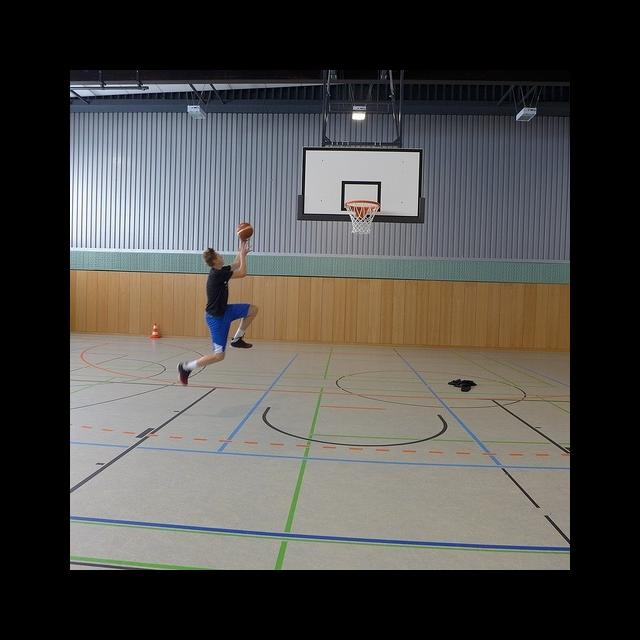basketball: (236, 223, 254, 239)
hoop: (346, 202, 379, 234)
